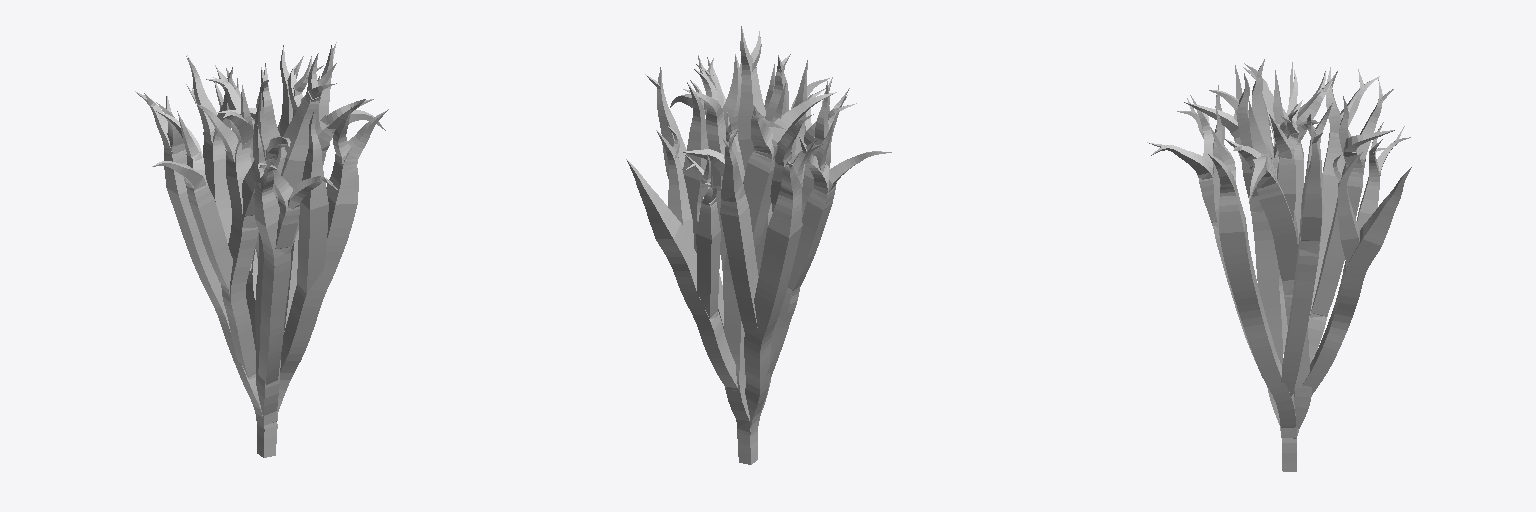
File: bendytree_000006.obj
3 renders of one model, left to right at view 1: azimuth 30°, elevation 25°; view 2: azimuth 150°, elevation 25°; view 3: azimuth 270°, elevation 25°, orthographic.
Parts seen in each view (by area): view 1: treemesh_treemesh.001; view 2: treemesh_treemesh.001; view 3: treemesh_treemesh.001.
Boxes of the visible parts, <box> form: treemesh_treemesh.001: <box>135,42,388,457</box>; treemesh_treemesh.001: <box>626,26,891,464</box>; treemesh_treemesh.001: <box>1147,59,1411,471</box>.
Bounding box in the file's own units: 3.79 × 6.5 × 3.81.